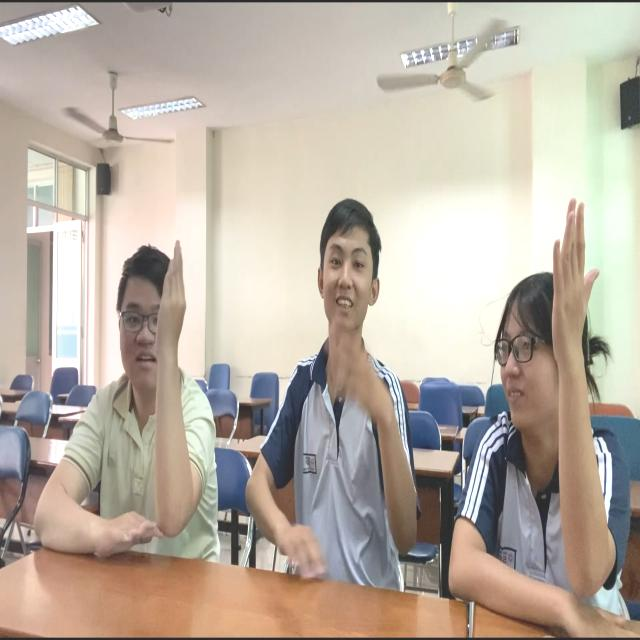raise_hand: (436, 166, 640, 628), (9, 231, 225, 640)
